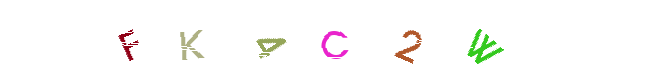2: (336, 0, 416, 80)
4: (284, 0, 364, 80)
C: (292, 0, 372, 80)
F: (87, 0, 167, 80)
K: (229, 0, 309, 80)
W: (442, 0, 522, 80)
